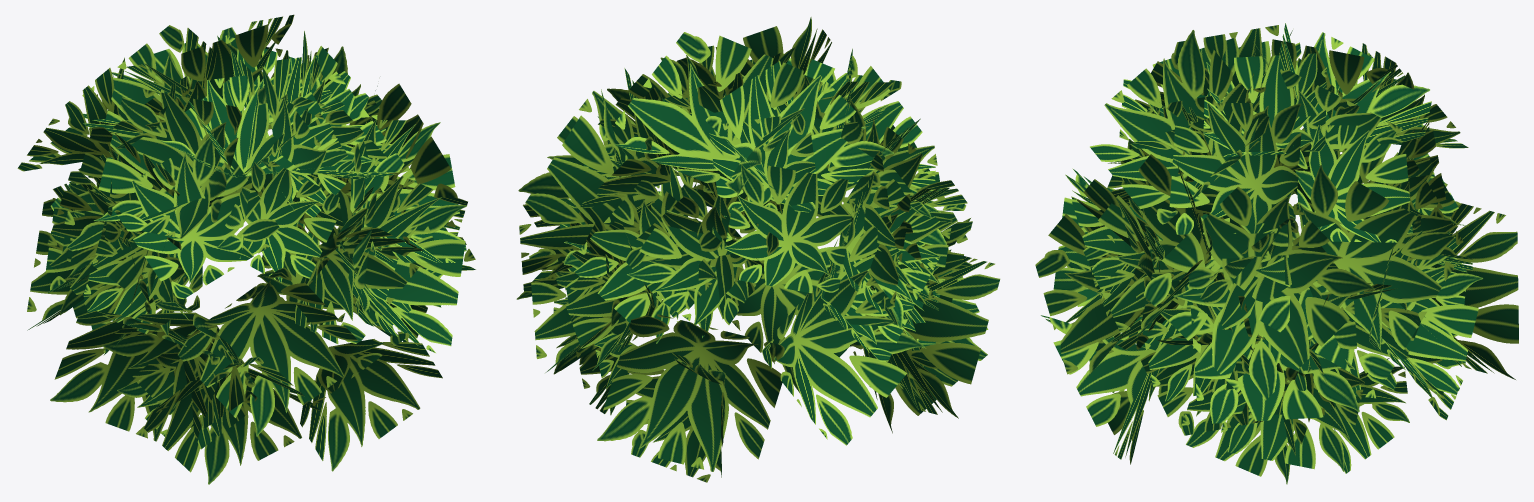
Rendered from Bush1_LOD1.fbx.
3 views of the same model, side by side, from view 1: azimuth 30°, elevation 25°; view 2: azimuth 150°, elevation 25°; view 3: azimuth 270°, elevation 25° (orthographic). The views are drawn at different scales.
Visible parts, largest first — view 1: Bush1_LOD1; view 2: Bush1_LOD1; view 3: Bush1_LOD1.
Part boxes in pixels (x1,y1,x2,y2): Bush1_LOD1: (17,14,475,484); Bush1_LOD1: (516,17,1000,482); Bush1_LOD1: (1035,23,1518,484).
Size of the model in its own units: 388 by 365 by 382.
